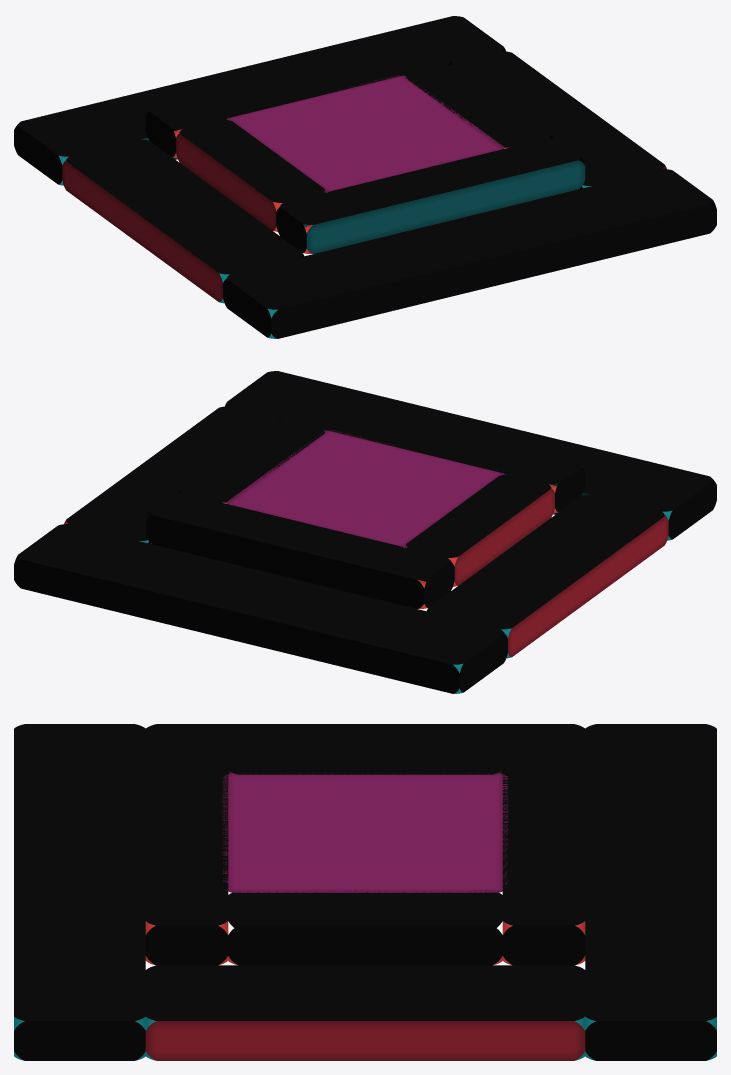
The model's file is roof.obj.
The picture shows the model from 3 angles, top to bottom: view 1: azimuth 30°, elevation 25°; view 2: azimuth 150°, elevation 25°; view 3: azimuth 270°, elevation 25°; orthographic projection. The views are drawn at different scales.
Visible parts, largest first — view 1: Roof; view 2: Roof; view 3: Roof.
Part boxes in pixels (x1,y1,x2,y2): Roof: [14, 16, 716, 338]; Roof: [14, 371, 716, 693]; Roof: [14, 724, 716, 1060].
Size of the model in its own units: 2 by 0.25 by 2.
1 material, 1 textured.
